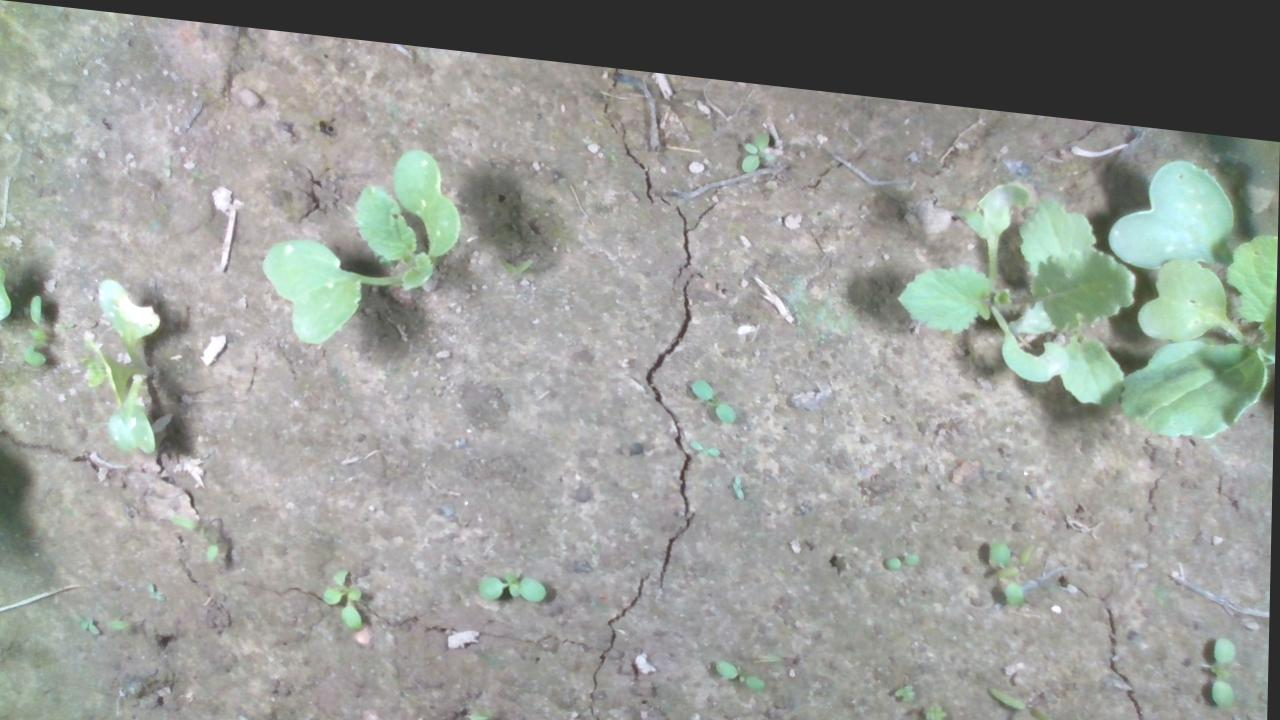weed: (322, 555, 368, 623), (477, 554, 551, 595), (690, 359, 739, 408), (1212, 603, 1239, 682), (714, 638, 769, 674), (737, 106, 772, 159), (884, 526, 922, 551), (687, 422, 721, 443), (730, 453, 746, 485)
